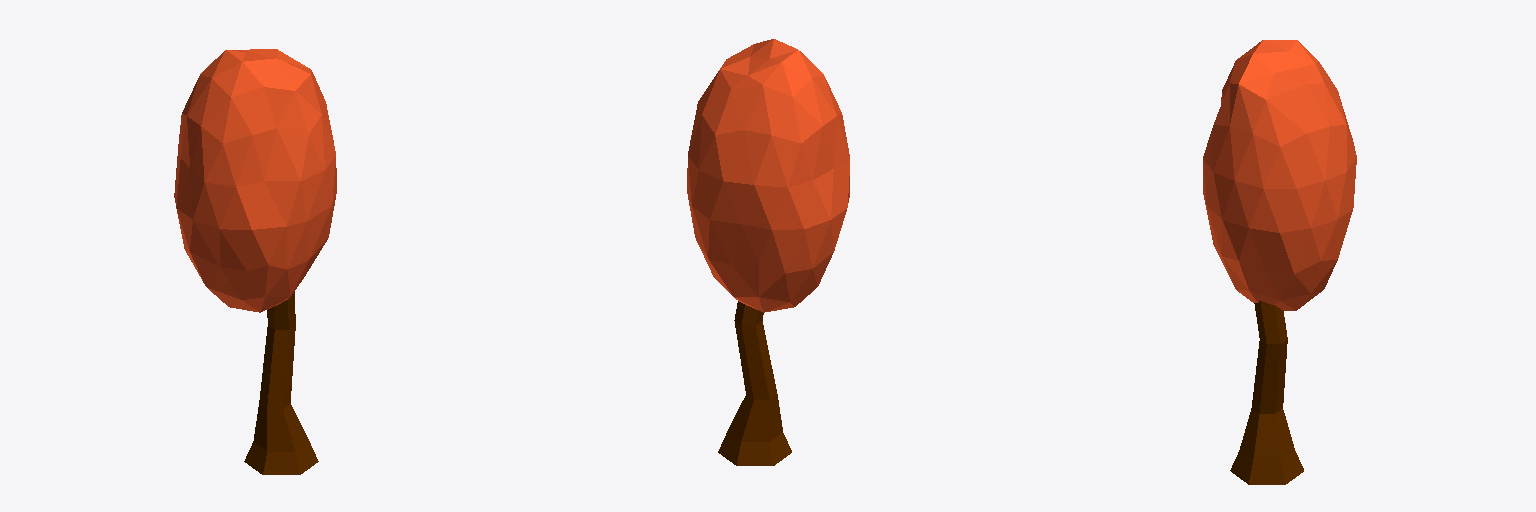
The model's file is tree2.obj.
3 renders of one model, left to right at view 1: azimuth 30°, elevation 25°; view 2: azimuth 150°, elevation 25°; view 3: azimuth 270°, elevation 25°, orthographic.
Visible parts, largest first — view 1: Mesh82, Mesh81; view 2: Mesh82, Mesh81; view 3: Mesh82, Mesh81.
Part boxes in pixels (x1,y1,x2,y2): Mesh82: (174,49,336,312); Mesh81: (244,291,318,474); Mesh82: (687,39,849,312); Mesh81: (718,301,791,465); Mesh82: (1203,40,1356,310); Mesh81: (1230,300,1303,484).
Size of the model in its own units: 16.15 by 44.5 by 15.1.